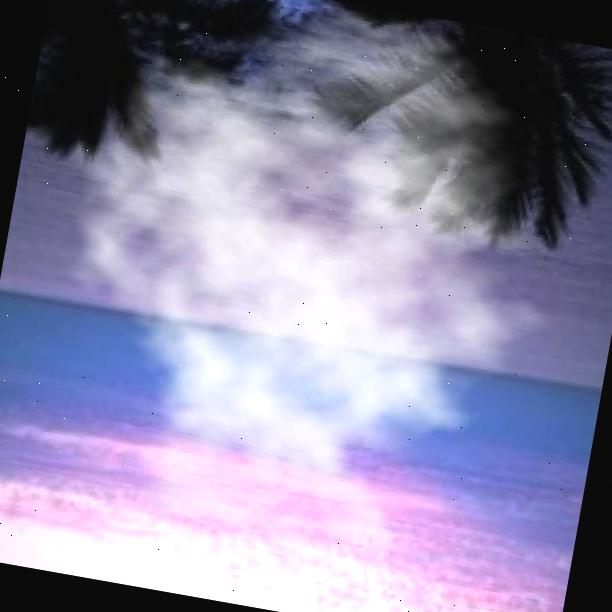smoke: (8, 0, 612, 575)
